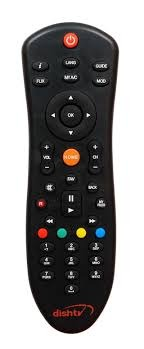remote control: (23, 18, 118, 336)
